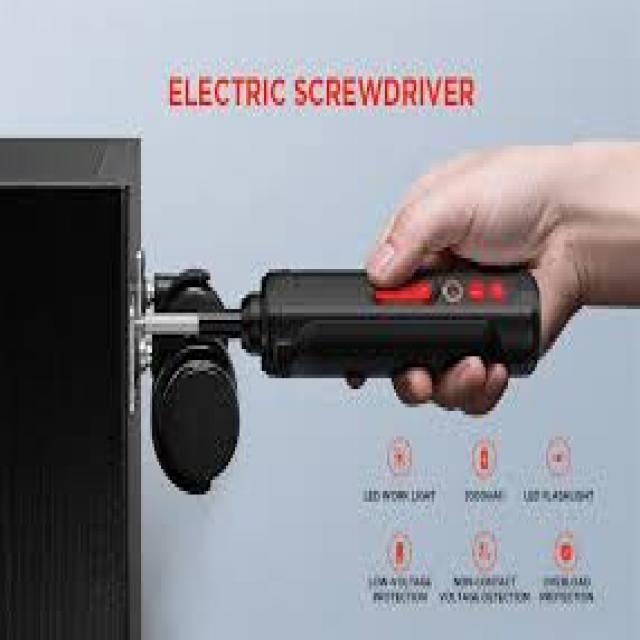screwdriver: (127, 265, 548, 382)
